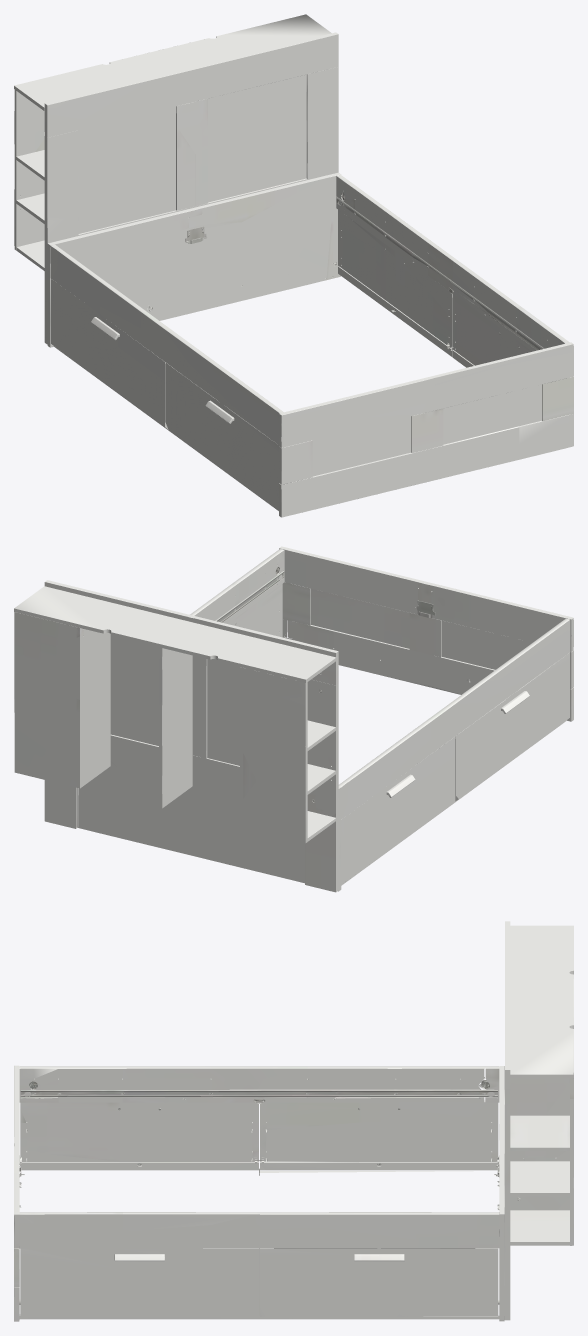
The picture shows the model from 3 angles, top to bottom: view 1: azimuth 30°, elevation 25°; view 2: azimuth 150°, elevation 25°; view 3: azimuth 270°, elevation 25°; orthographic projection. The views are drawn at different scales.
Parts seen in each view (by area): view 1: 70228721-BRIMNES001.001; view 2: 70228721-BRIMNES001.001; view 3: 70228721-BRIMNES001.001.
Part boxes in pixels (bbox=[...]): 70228721-BRIMNES001.001: bbox=[14, 14, 573, 517]; 70228721-BRIMNES001.001: bbox=[14, 546, 573, 892]; 70228721-BRIMNES001.001: bbox=[14, 921, 573, 1321].
Size of the model in its own units: 1.45 by 1.11 by 2.23.
Materials: 1 (1 with a texture image).
